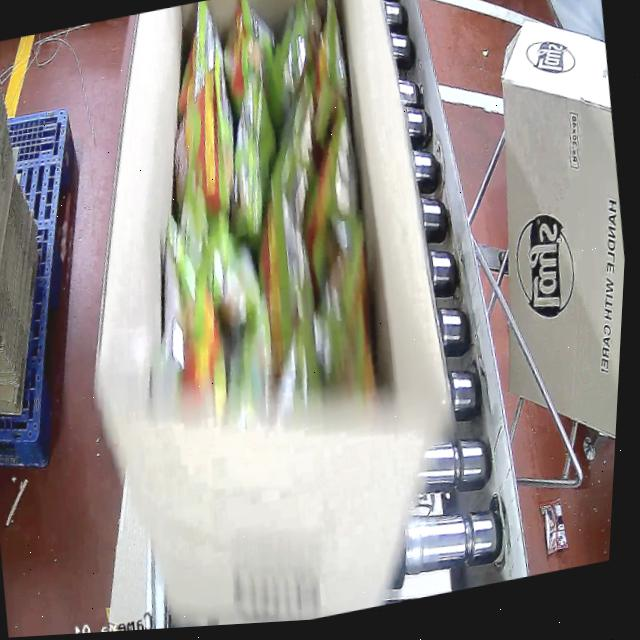YOGURT_HERB: (105, 0, 411, 435)
